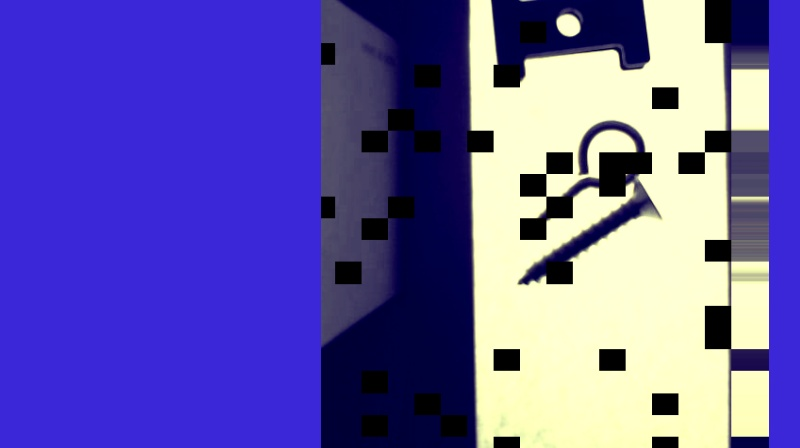O001: (524, 119, 646, 237)
O002: (487, 0, 649, 87)
S001: (512, 176, 663, 288)
